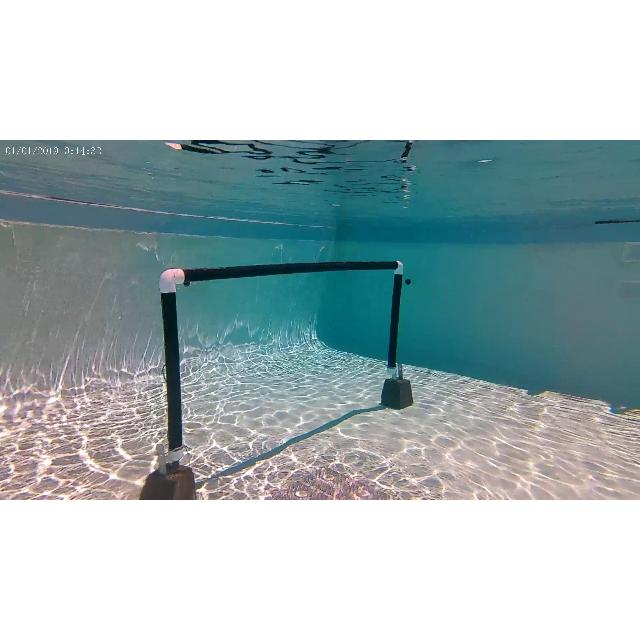prequal gate: (160, 260, 406, 462)
prequal gate leg l: (157, 264, 199, 464)
prequal gate leg r: (384, 256, 412, 392)
